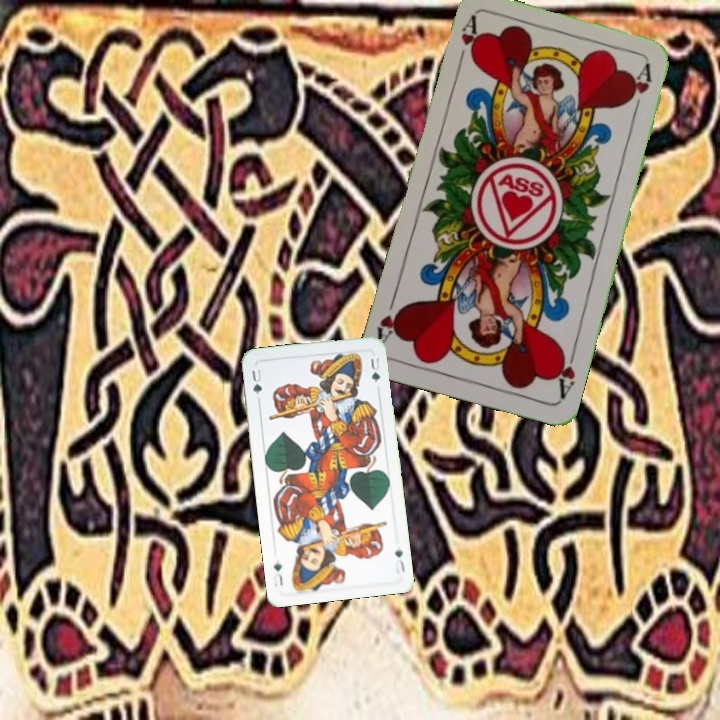GU: (248, 364, 265, 403), (390, 545, 407, 576)
HA: (550, 343, 579, 402), (453, 14, 480, 72)
